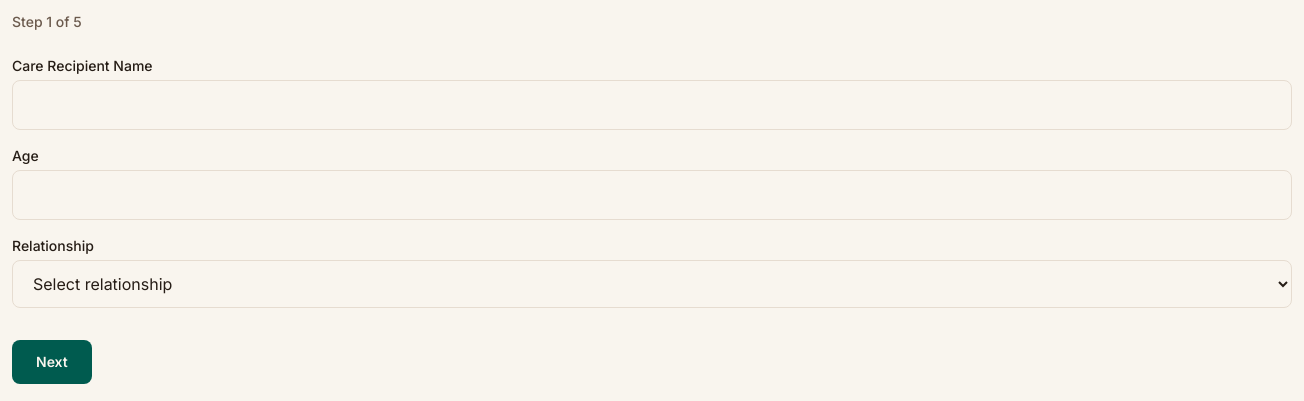
Test: AssessmentForm › Step navigation › advances to step 2 when step 1 is valid
The image size is (1304, 401).
Type "John Smith" into the field labelled "Care Recipient Name" at (652, 105), box [12,80,1292,130]
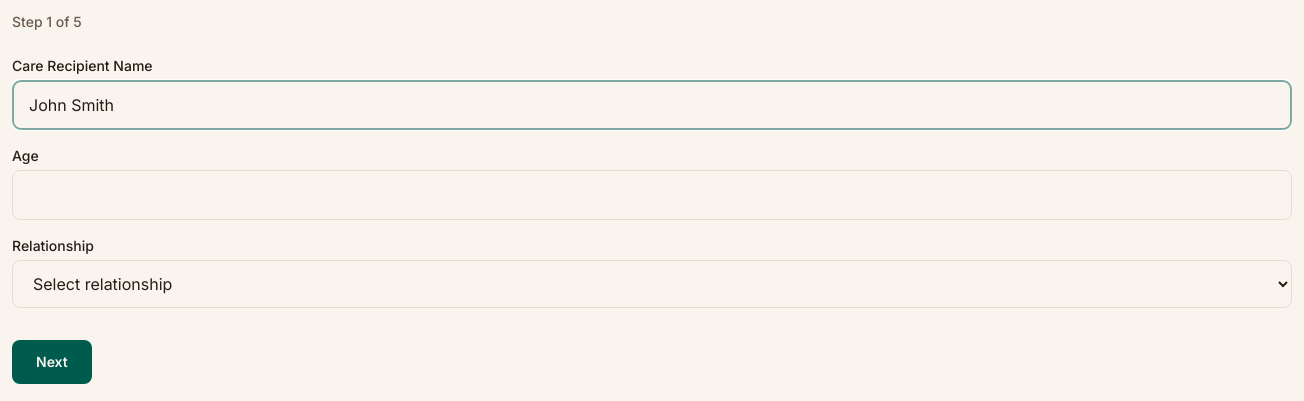
Type "78" into the field labelled "Age" at (652, 195), box [12,170,1292,220]
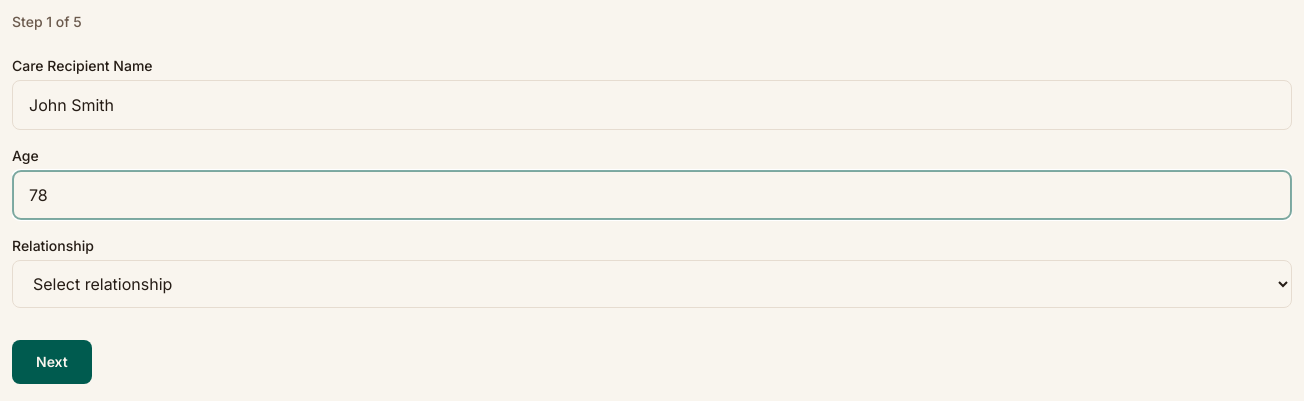
Select "Parent" in the dropdown labelled "Relationship" at (652, 284), box [12,260,1292,308]
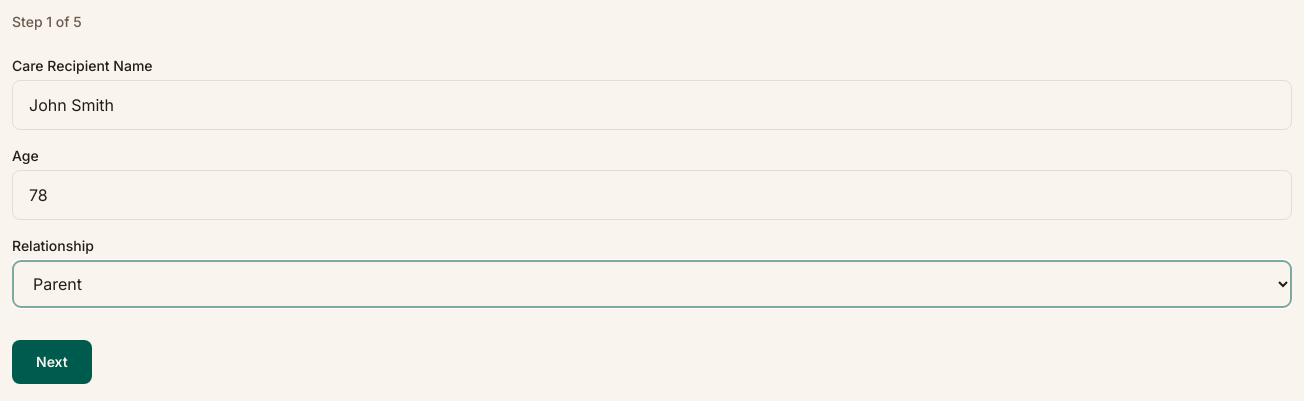
Click the button "Next" at (52, 362), box [12,340,92,384]
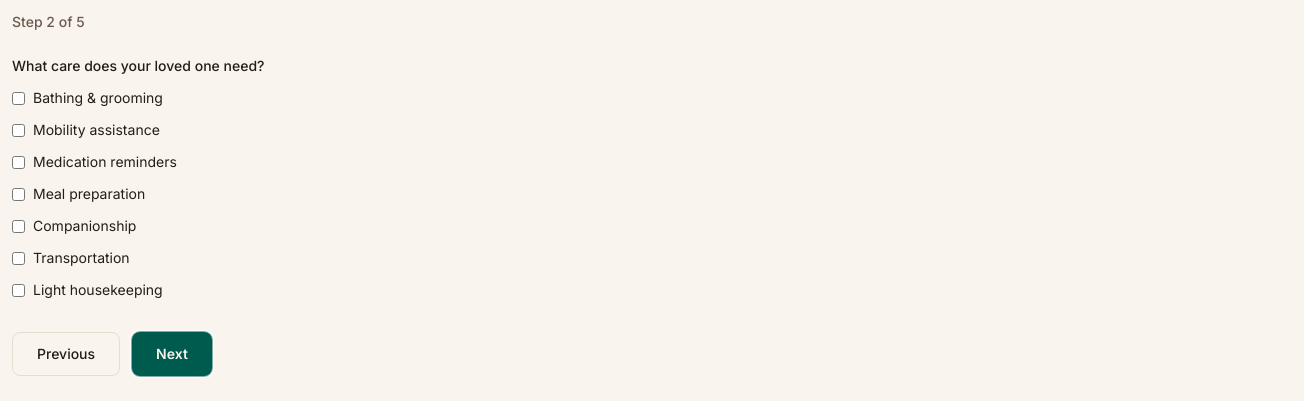
Result: the text "Step 2 of 5" is shown at [12,13,85,30]
